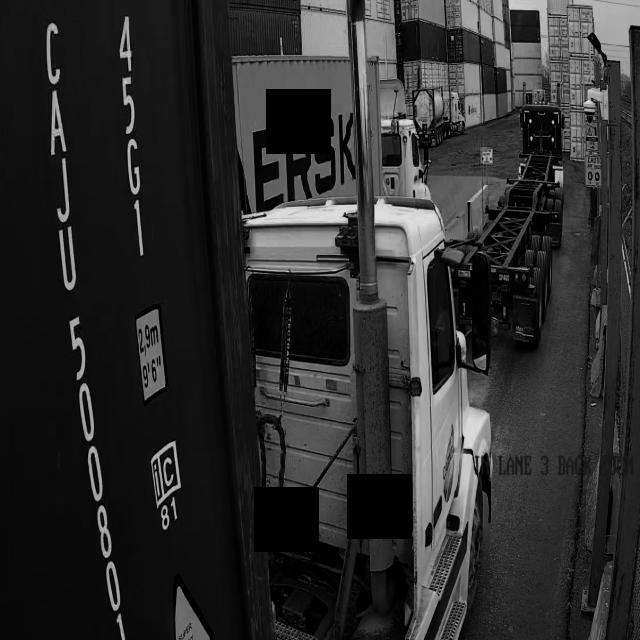container_side_no: (35, 3, 135, 640)
truck_with_container: (0, 0, 492, 640)
truck_without_container: (453, 106, 564, 343)
